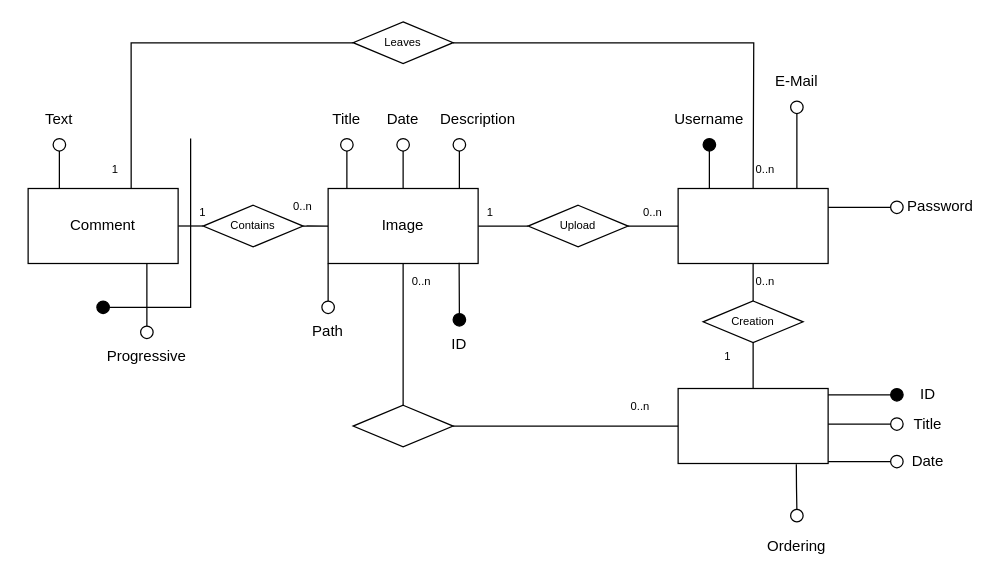
The diagram is 999 pixels wide and 588 high, and some of its shapes have lost their labels. Here are the shapes that lost their labels. From the top down, the centre of each, then its label:
At (x=752, y=225): "User".
At (x=402, y=425): "Containment".
At (x=752, y=425): "Album".
